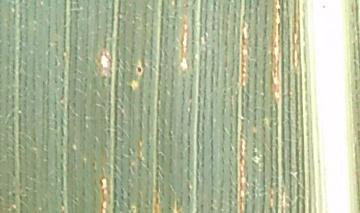tarspot: (136, 66, 142, 74)
